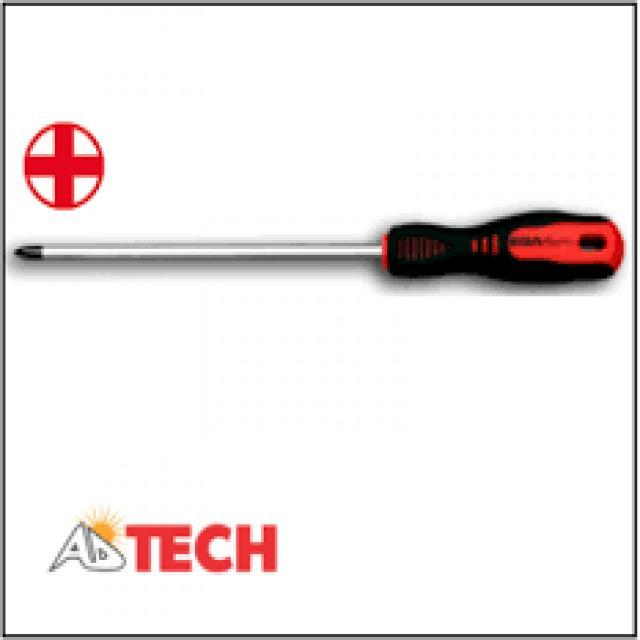screwdriver: (2, 200, 630, 289)
